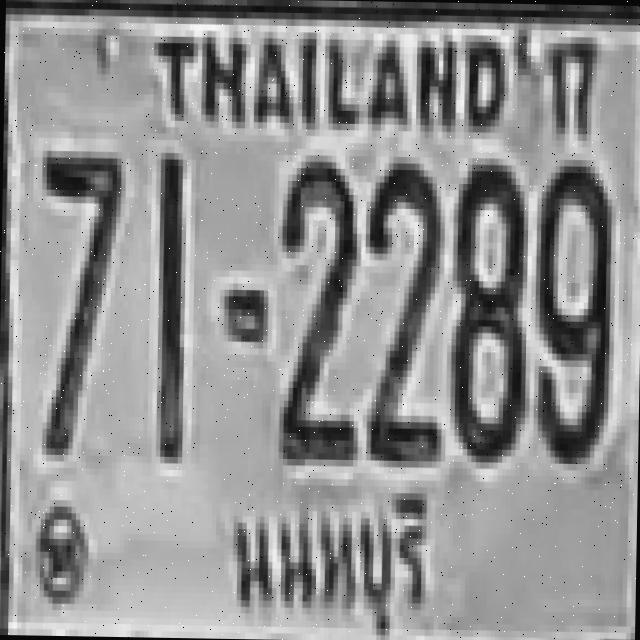1: (152, 152, 182, 438)
2: (276, 154, 356, 440), (362, 159, 441, 445)
7: (35, 144, 119, 449), (38, 147, 121, 407), (36, 144, 119, 352)
8: (445, 158, 525, 456)
9: (530, 152, 610, 458)
Nonthaburi: (220, 482, 433, 634)
